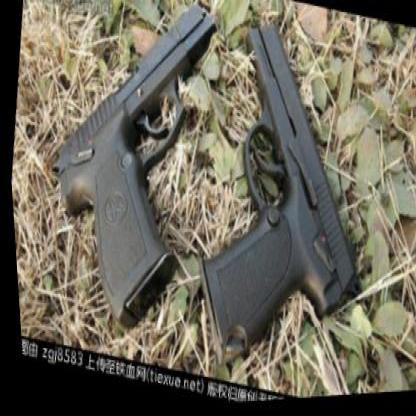pistol: (170, 4, 386, 388), (18, 0, 236, 356)
